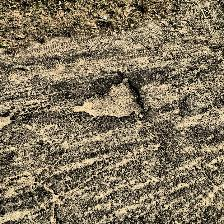pothole: (72, 75, 144, 119)
